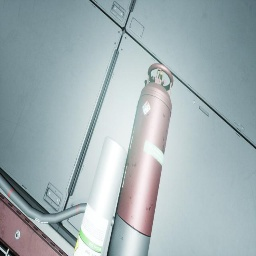0: (73, 136, 127, 256)
NitrogenTank ,: (108, 63, 173, 256)
